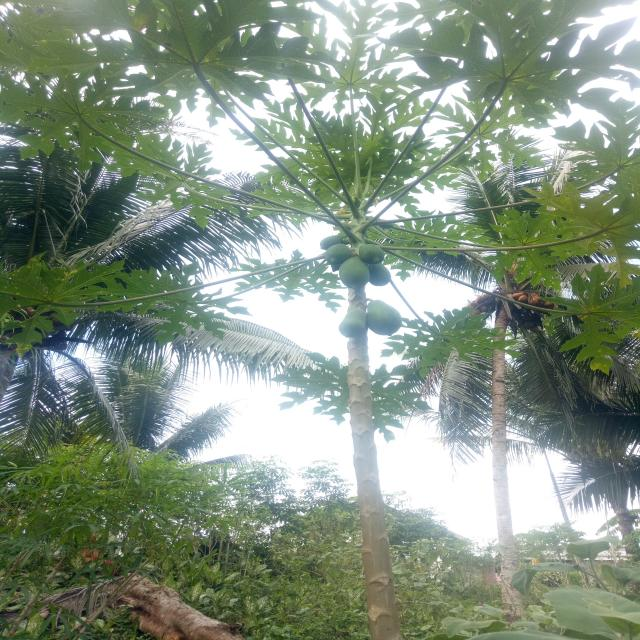Pepaya unrippen: (364, 297, 400, 336), (340, 260, 372, 292), (336, 306, 368, 334)
